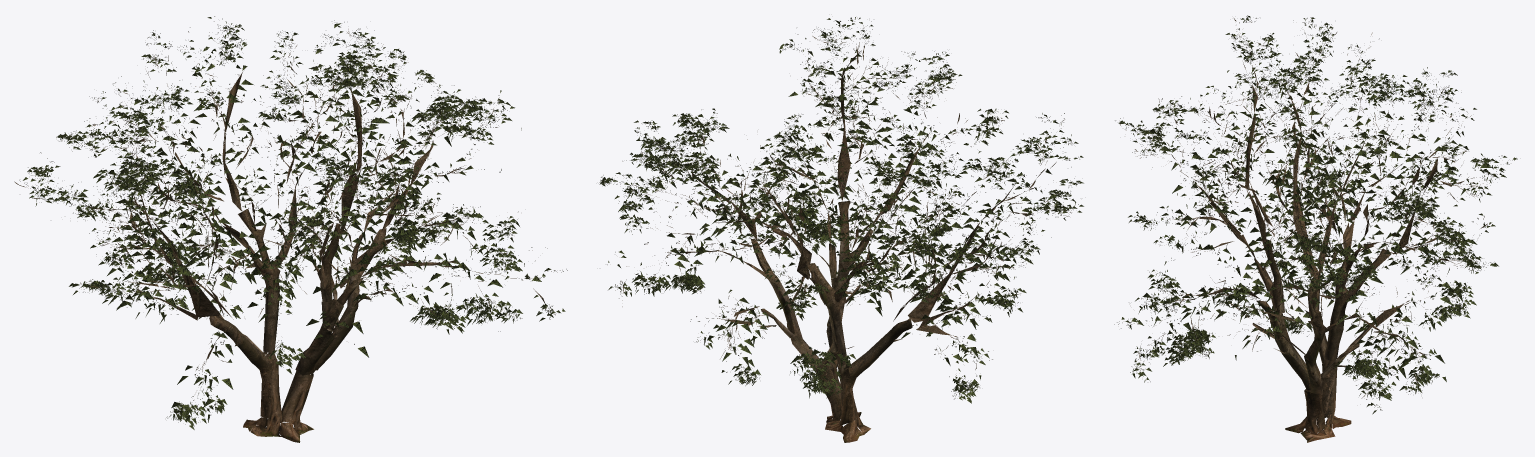
The model's file is jacaranda_tree_lod0.gltf.
3 views of the same model, side by side, from view 1: azimuth 30°, elevation 25°; view 2: azimuth 150°, elevation 25°; view 3: azimuth 270°, elevation 25° (orthographic). The views are drawn at different scales.
Parts seen in each view (by area): view 1: jacaranda_tree_lod0; view 2: jacaranda_tree_lod0; view 3: jacaranda_tree_lod0.
Boxes of the visible parts, x1,y1,x2,y2 form: jacaranda_tree_lod0: (14,16,567,442); jacaranda_tree_lod0: (599,17,1083,442); jacaranda_tree_lod0: (1114,15,1517,442).
Bounding box in the file's own units: 24.09 × 19.34 × 18.59.
3 materials, 3 textured.
